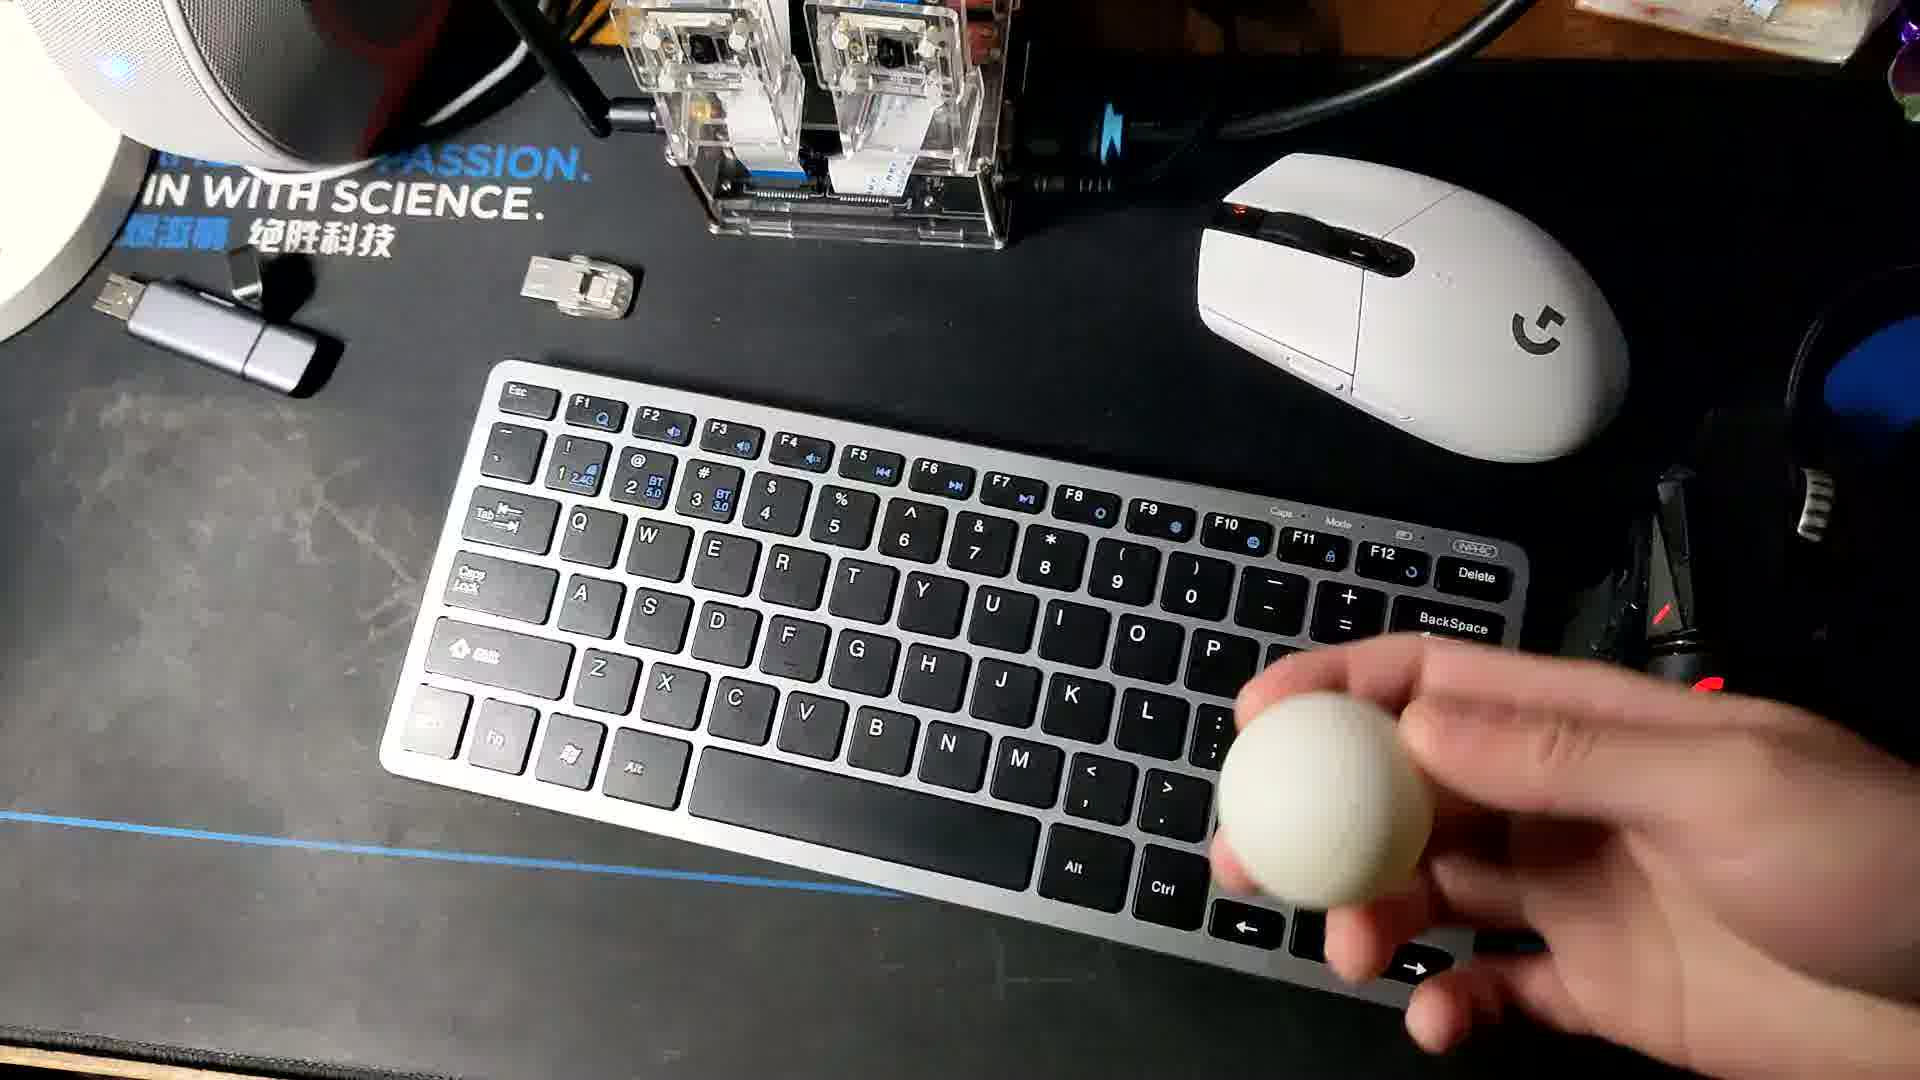Ball: (1221, 688, 1433, 926)
